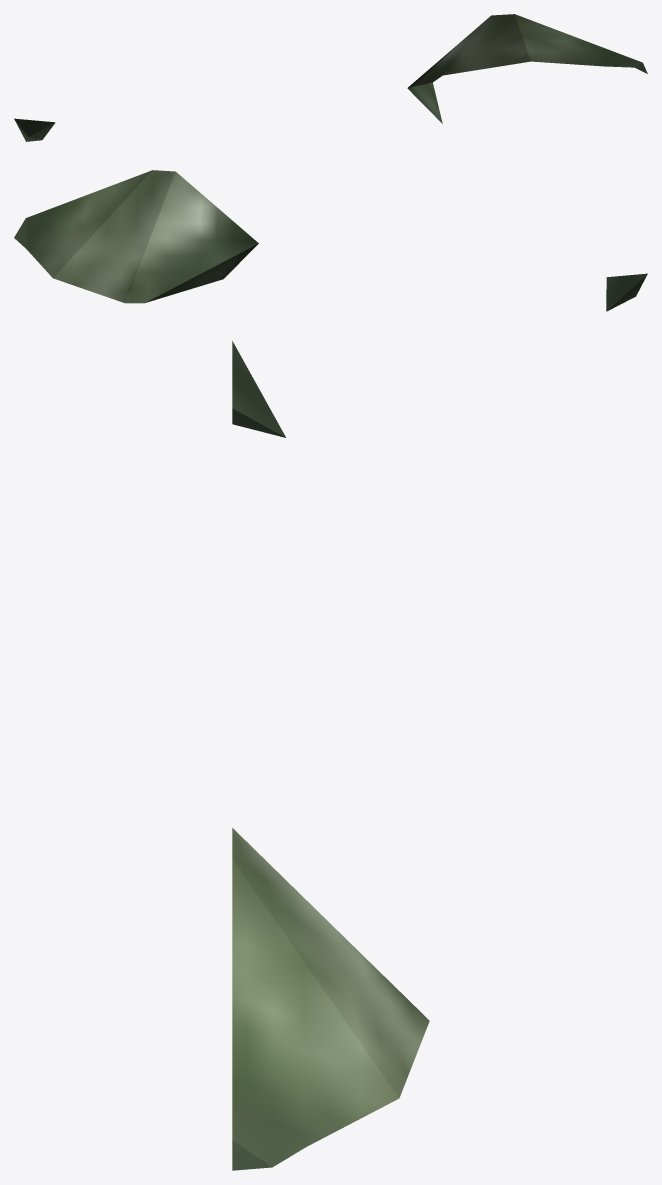
The picture shows the model from 3 angles, top to bottom: view 1: azimuth 30°, elevation 25°; view 2: azimuth 150°, elevation 25°; view 3: azimuth 270°, elevation 25°; orthographic projection. The views are drawn at different scales.
Bounding box in the file's own units: 34.43 × 5.72 × 4.7.
1 material, 1 textured.
